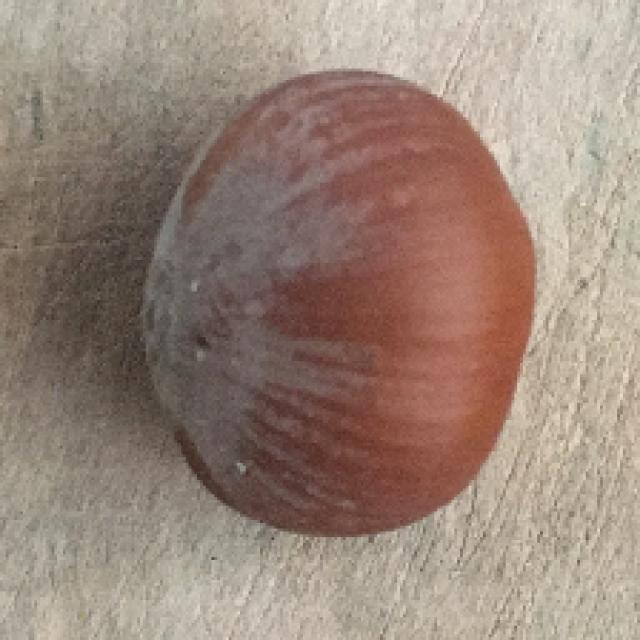qualityHazelnut: (138, 67, 540, 543)
